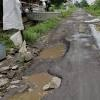Pothole: (1, 69, 81, 97), (31, 32, 70, 61), (75, 17, 100, 52)
